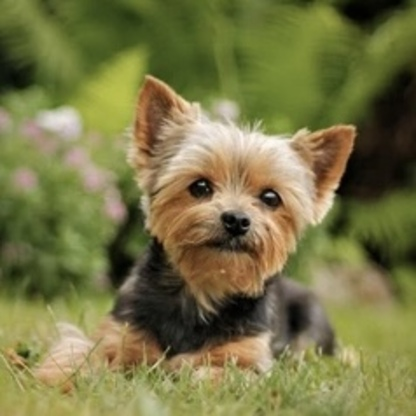yorkshire: (99, 74, 355, 367)
